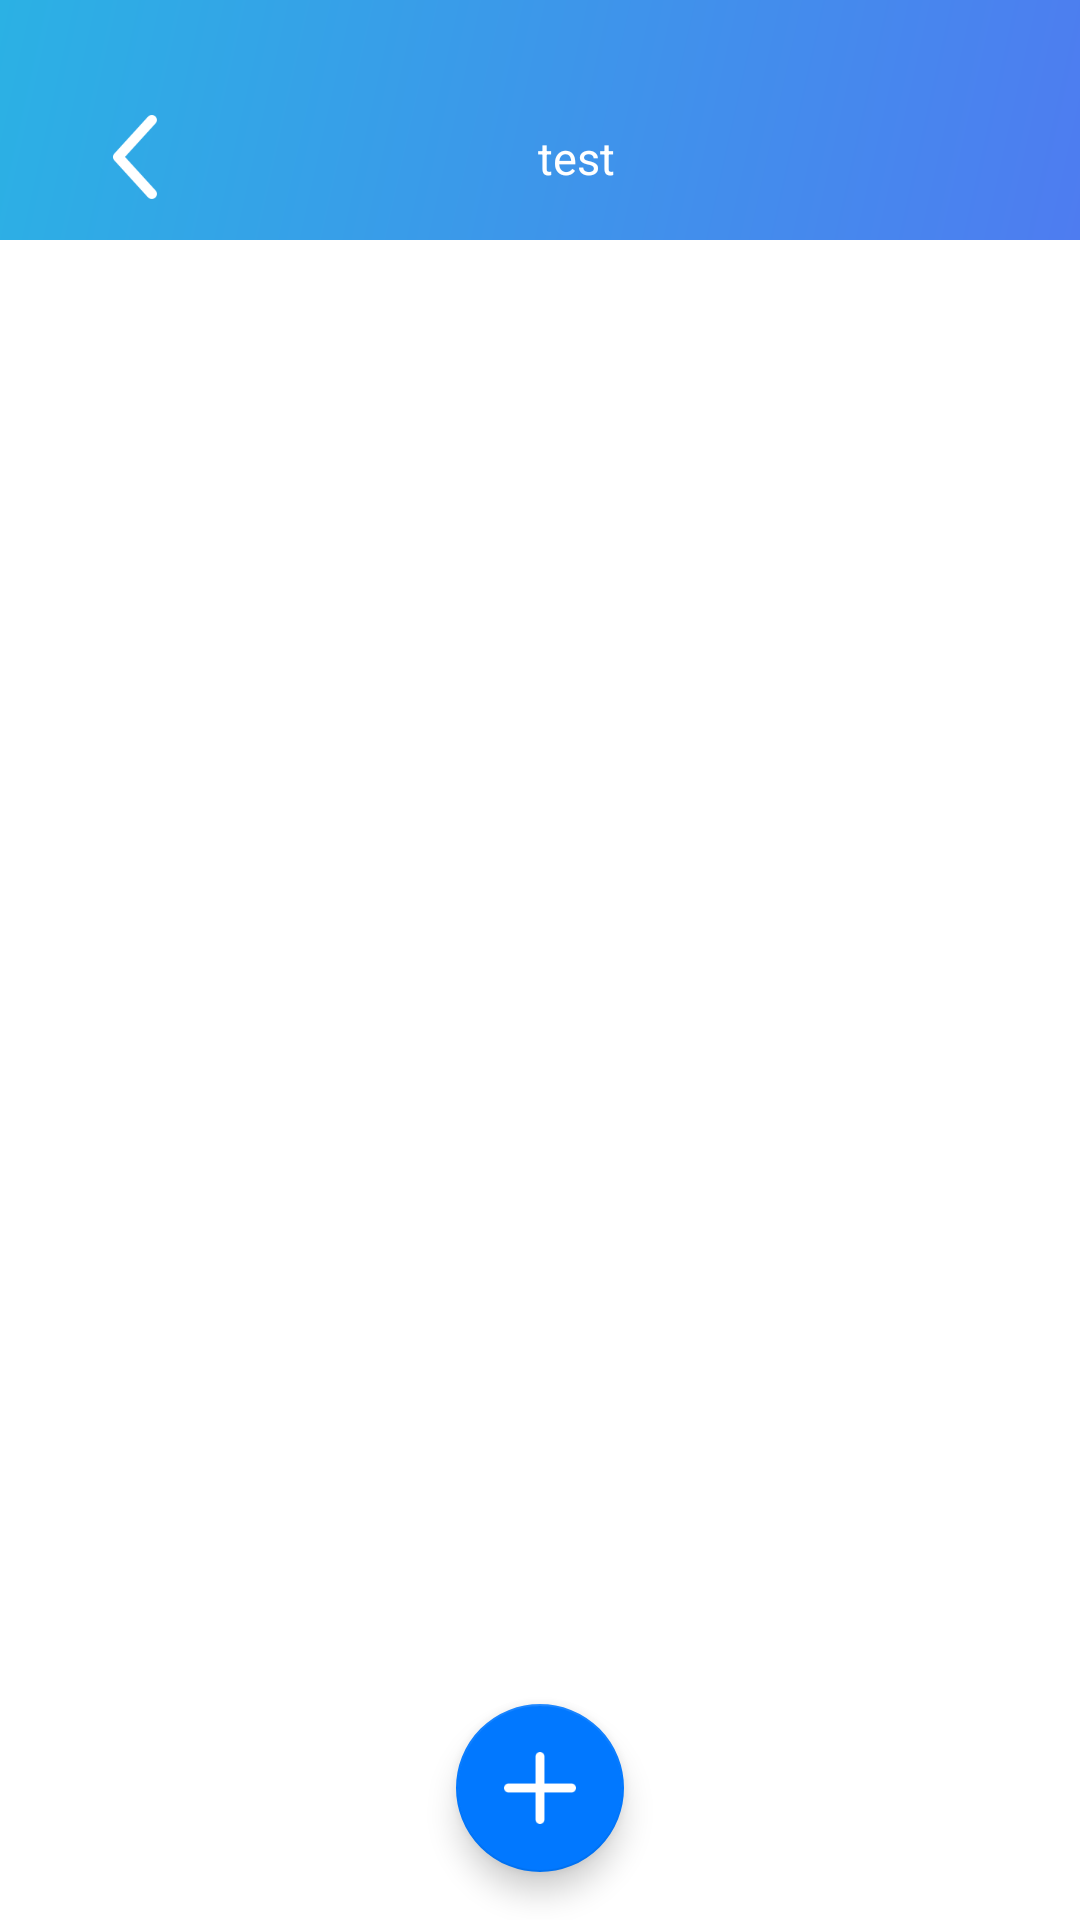

Named icons in this screenshot (1080*1920) and their centers, (x=x, y=y):
add: (x=540, y=1788)
